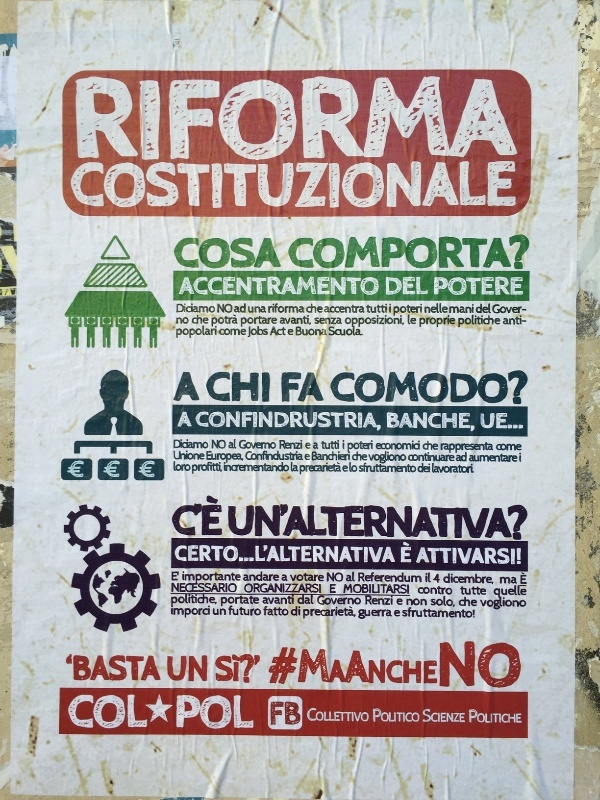text: (81, 74, 96, 163), (97, 74, 112, 163), (113, 74, 128, 163), (129, 74, 144, 163), (145, 74, 160, 163), (161, 74, 176, 163), (177, 74, 192, 163), (193, 74, 208, 163), (209, 74, 224, 163), (225, 74, 240, 163), (241, 74, 256, 163), (257, 74, 272, 163), (273, 74, 288, 163), (289, 74, 304, 163), (305, 74, 320, 163), (321, 74, 336, 163), (337, 74, 352, 163), (353, 74, 368, 163), (369, 74, 384, 163), (385, 74, 400, 163), (401, 74, 416, 163), (417, 74, 432, 163), (433, 74, 448, 163), (449, 74, 464, 163), (465, 74, 480, 163), (481, 74, 496, 163), (497, 74, 512, 163), (81, 160, 96, 211), (97, 160, 112, 211), (113, 160, 128, 211), (129, 160, 144, 211), (145, 160, 160, 211), (161, 160, 176, 211), (177, 160, 192, 211), (193, 160, 208, 211), (209, 160, 224, 211), (225, 160, 240, 211), (241, 160, 256, 211), (257, 160, 272, 211), (273, 160, 288, 211), (289, 160, 304, 211), (305, 160, 320, 211), (321, 160, 336, 211), (337, 160, 352, 211), (353, 160, 368, 211), (369, 160, 384, 211), (385, 160, 400, 211), (401, 160, 416, 211), (417, 160, 432, 211), (433, 160, 448, 211), (449, 160, 464, 211), (465, 160, 480, 211), (481, 160, 496, 211), (497, 160, 512, 211), (305, 639, 320, 689), (321, 639, 336, 689), (337, 639, 352, 689), (353, 639, 368, 689), (369, 639, 384, 689), (385, 639, 400, 689), (401, 639, 416, 689), (417, 639, 432, 689), (433, 639, 448, 689), (449, 639, 464, 689), (465, 639, 480, 689), (481, 639, 496, 689), (497, 639, 512, 689), (513, 74, 521, 163), (497, 500, 513, 541), (73, 74, 80, 163), (177, 500, 192, 541), (193, 500, 208, 541), (209, 500, 224, 541), (225, 500, 240, 541), (241, 500, 256, 541), (257, 500, 272, 541), (273, 500, 288, 541), (289, 500, 304, 541), (305, 500, 320, 541), (321, 500, 336, 541), (337, 500, 352, 541), (353, 500, 368, 541), (369, 500, 384, 541), (385, 500, 400, 541), (401, 500, 416, 541), (417, 500, 432, 541), (433, 500, 448, 541), (449, 500, 464, 541), (465, 500, 480, 541), (481, 500, 496, 541), (273, 646, 288, 687), (81, 694, 96, 731), (97, 694, 112, 731), (113, 694, 128, 731), (129, 694, 144, 731), (177, 238, 192, 274), (193, 238, 208, 274), (209, 238, 224, 274), (225, 238, 240, 274), (241, 238, 256, 274), (257, 238, 272, 274), (289, 235, 304, 271), (305, 235, 320, 271), (321, 235, 336, 271), (337, 235, 352, 271), (353, 235, 368, 271), (369, 235, 384, 271), (385, 235, 400, 271), (401, 235, 416, 271), (417, 235, 432, 271), (433, 235, 448, 271), (449, 235, 464, 271), (465, 235, 480, 271), (481, 235, 496, 271), (497, 235, 512, 271), (193, 372, 208, 408), (209, 372, 224, 408), (225, 372, 240, 408), (241, 372, 256, 408), (257, 372, 272, 408), (273, 372, 288, 408), (289, 372, 304, 408), (305, 372, 320, 408), (321, 372, 336, 408), (337, 372, 352, 408), (353, 372, 368, 408), (369, 372, 384, 408), (385, 372, 400, 408), (401, 372, 416, 408), (417, 372, 432, 408), (433, 372, 448, 408), (449, 372, 464, 408), (465, 372, 480, 408), (481, 372, 496, 408), (65, 654, 80, 689), (81, 654, 96, 689), (97, 654, 112, 689), (113, 654, 128, 689), (129, 654, 144, 689), (145, 654, 160, 689), (161, 654, 176, 689), (177, 654, 192, 689), (193, 654, 208, 689), (209, 654, 224, 689), (225, 654, 240, 689), (241, 654, 256, 689), (177, 697, 192, 731), (193, 697, 208, 731), (209, 697, 224, 731), (225, 697, 240, 731), (241, 697, 256, 731), (71, 160, 80, 211), (513, 639, 522, 689), (273, 238, 285, 274), (289, 703, 305, 729), (289, 646, 299, 687), (69, 694, 80, 731), (497, 372, 508, 408), (273, 703, 288, 729), (385, 275, 400, 299), (401, 275, 416, 299), (145, 694, 154, 731), (193, 276, 208, 298), (209, 276, 224, 298), (225, 276, 240, 298), (241, 276, 256, 298), (257, 276, 272, 298), (273, 276, 288, 298), (289, 276, 304, 298), (305, 276, 320, 298), (321, 276, 336, 298), (337, 276, 352, 298), (353, 276, 368, 298), (177, 542, 192, 564), (193, 542, 208, 564), (209, 542, 224, 564), (225, 542, 240, 564), (241, 542, 256, 564), (257, 542, 272, 564), (273, 542, 288, 564), (289, 542, 304, 564), (305, 542, 320, 564), (321, 542, 336, 564), (337, 542, 352, 564), (353, 542, 368, 564), (369, 542, 384, 564), (183, 372, 192, 408), (449, 276, 464, 297), (465, 276, 480, 297), (481, 276, 496, 297), (497, 276, 512, 297), (401, 545, 416, 565), (433, 546, 448, 566), (449, 546, 464, 566), (465, 546, 480, 566), (481, 546, 496, 566), (497, 546, 512, 566), (434, 276, 448, 297), (417, 275, 429, 299), (209, 410, 224, 429), (225, 410, 240, 429), (241, 410, 256, 429), (257, 410, 272, 429), (273, 410, 288, 429), (289, 410, 304, 429), (305, 410, 320, 429), (321, 410, 336, 429), (337, 410, 352, 429), (353, 410, 368, 429), (401, 411, 416, 430), (417, 411, 432, 430), (433, 411, 448, 430), (449, 411, 464, 430), (481, 411, 496, 430), (385, 542, 397, 564), (513, 160, 518, 211), (433, 708, 448, 725), (449, 708, 464, 725), (195, 410, 208, 429), (387, 411, 400, 430), (321, 707, 336, 723), (337, 707, 352, 723), (353, 707, 368, 723), (385, 708, 400, 724), (401, 708, 416, 724), (513, 276, 524, 297), (497, 411, 509, 430), (481, 710, 496, 725), (497, 710, 512, 725), (67, 461, 80, 478), (369, 276, 379, 298), (401, 303, 416, 317), (497, 585, 512, 599), (177, 594, 192, 608), (193, 594, 208, 608), (481, 597, 496, 611), (497, 597, 512, 611), (305, 606, 320, 620), (321, 606, 336, 620), (337, 606, 352, 620), (177, 606, 192, 620), (193, 606, 208, 620), (307, 707, 320, 723), (433, 303, 449, 316), (273, 605, 289, 618), (422, 546, 432, 566), (513, 585, 527, 599), (177, 326, 192, 339), (193, 326, 208, 339), (353, 314, 368, 327), (369, 314, 384, 327), (385, 314, 400, 327), (433, 316, 448, 329), (465, 315, 480, 328), (481, 315, 496, 328), (369, 451, 384, 464), (385, 451, 400, 464), (193, 462, 208, 475), (305, 462, 320, 475), (321, 462, 336, 475), (449, 573, 464, 586), (465, 573, 480, 586), (353, 584, 368, 597), (369, 584, 384, 597), (385, 584, 400, 597), (241, 605, 256, 618), (182, 411, 192, 430), (369, 410, 379, 429), (209, 462, 223, 475), (513, 597, 526, 611), (513, 546, 522, 566), (193, 314, 208, 326), (241, 315, 256, 327), (257, 315, 272, 327), (497, 303, 512, 315), (353, 440, 368, 452), (225, 461, 240, 473), (241, 461, 256, 473), (257, 461, 272, 473), (273, 461, 288, 473), (145, 460, 155, 478), (305, 572, 320, 584), (369, 573, 384, 585), (385, 573, 400, 585), (401, 573, 416, 585), (321, 595, 336, 607), (337, 595, 352, 607), (369, 595, 384, 607), (417, 608, 432, 620), (433, 608, 448, 620), (449, 608, 464, 620), (369, 608, 384, 620), (373, 708, 384, 724), (257, 654, 262, 689), (419, 316, 432, 329), (481, 573, 494, 586), (291, 605, 304, 618), (289, 439, 303, 451), (513, 303, 527, 315), (450, 303, 464, 315), (177, 461, 191, 473), (290, 572, 304, 584), (402, 608, 416, 620), (469, 710, 480, 725), (337, 326, 352, 337), (305, 326, 320, 337), (289, 315, 304, 326), (177, 304, 192, 315), (193, 304, 208, 315), (177, 439, 192, 450), (193, 439, 208, 450), (321, 439, 336, 450), (385, 440, 400, 451), (401, 440, 416, 451), (449, 442, 464, 453), (465, 442, 480, 453), (481, 452, 496, 463), (497, 452, 512, 463), (353, 451, 368, 462), (321, 451, 336, 462), (257, 450, 272, 461), (273, 450, 288, 461), (289, 450, 304, 461), (177, 451, 192, 462), (433, 463, 448, 474), (449, 463, 464, 474), (193, 572, 208, 583), (209, 572, 224, 583), (225, 572, 240, 583), (257, 572, 272, 583), (465, 586, 480, 597), (433, 586, 448, 597), (257, 583, 272, 594), (273, 583, 288, 594), (289, 583, 304, 594), (305, 583, 320, 594), (225, 596, 240, 607), (241, 596, 256, 607), (433, 597, 448, 608), (172, 500, 176, 541), (289, 304, 305, 314), (401, 463, 417, 473), (225, 315, 238, 327), (211, 439, 224, 451), (465, 597, 478, 609), (228, 605, 240, 618), (185, 276, 192, 298), (513, 315, 527, 326), (337, 451, 351, 462), (418, 586, 432, 597), (423, 708, 432, 725), (103, 461, 112, 478), (241, 440, 256, 450), (257, 440, 272, 450), (369, 304, 384, 314), (337, 304, 352, 314), (273, 304, 288, 314), (417, 453, 432, 463), (433, 453, 448, 463), (209, 451, 224, 461), (225, 451, 240, 461), (369, 463, 384, 473), (385, 463, 400, 473), (177, 583, 192, 593), (193, 583, 208, 593), (209, 583, 224, 593), (273, 595, 288, 605), (257, 326, 269, 338), (212, 315, 224, 327), (273, 326, 286, 337), (229, 438, 240, 451), (481, 442, 494, 453), (291, 462, 304, 473), (306, 304, 320, 314), (418, 463, 432, 473), (257, 697, 261, 731), (513, 710, 522, 725), (225, 328, 240, 337), (321, 317, 336, 326), (481, 302, 492, 314), (193, 451, 205, 462), (244, 572, 256, 583), (225, 583, 238, 593), (209, 594, 218, 608), (389, 303, 400, 314), (469, 452, 480, 463), (245, 583, 256, 594), (353, 304, 365, 314), (305, 442, 320, 450), (497, 444, 512, 452), (358, 573, 368, 585), (436, 574, 448, 584), (500, 576, 512, 586), (465, 608, 475, 620), (358, 608, 368, 620), (113, 461, 120, 478), (209, 326, 218, 339), (401, 584, 410, 597), (305, 594, 314, 607), (263, 605, 272, 618), (465, 411, 471, 430), (353, 326, 363, 337), (325, 304, 336, 314), (246, 450, 256, 461), (465, 463, 475, 474), (182, 572, 192, 583), (279, 439, 288, 451), (465, 303, 474, 315), (423, 439, 432, 451), (305, 453, 320, 460), (344, 314, 352, 327), (520, 573, 528, 586), (344, 584, 352, 597), (302, 639, 304, 689), (326, 573, 336, 583), (406, 598, 416, 608), (417, 598, 427, 608), (503, 315, 512, 326), (519, 452, 528, 463), (408, 315, 416, 327), (353, 595, 361, 607), (385, 595, 393, 607), (425, 303, 432, 316), (343, 440, 352, 450), (359, 463, 368, 473), (139, 460, 144, 478), (263, 595, 272, 605), (328, 326, 336, 337), (296, 326, 304, 337), (280, 315, 288, 326), (376, 440, 384, 451), (312, 451, 320, 462), (213, 608, 224, 616), (249, 326, 256, 338), (177, 318, 189, 325), (394, 303, 400, 317), (417, 303, 423, 317), (385, 608, 392, 620), (456, 452, 464, 462), (408, 453, 416, 463), (342, 465, 352, 473), (449, 316, 455, 329), (458, 315, 464, 328), (298, 594, 304, 607), (305, 315, 312, 326), (217, 303, 224, 314), (225, 303, 232, 314), (441, 442, 448, 453), (449, 597, 456, 608), (257, 306, 266, 314), (513, 444, 522, 452), (62, 654, 64, 689), (337, 573, 344, 583), (171, 606, 176, 620), (81, 461, 85, 478), (321, 326, 327, 337), (234, 303, 240, 314), (209, 304, 215, 315), (273, 572, 279, 583), (426, 573, 432, 584), (481, 586, 487, 597), (330, 584, 336, 595), (401, 451, 406, 464), (337, 462, 342, 475), (257, 605, 262, 618), (248, 306, 256, 314), (281, 574, 288, 583), (433, 439, 438, 451), (449, 453, 455, 463), (346, 572, 352, 582), (417, 573, 422, 585), (459, 597, 464, 609), (394, 609, 400, 619), (313, 442, 320, 450), (172, 594, 176, 608), (241, 303, 246, 314), (513, 452, 518, 463), (241, 328, 247, 337), (314, 317, 320, 326), (337, 317, 343, 326), (401, 314, 405, 327), (497, 315, 501, 328), (300, 462, 304, 475), (444, 573, 448, 586), (289, 328, 294, 338), (513, 576, 518, 586), (289, 595, 294, 605), (417, 708, 420, 724), (273, 315, 277, 327), (476, 302, 480, 314), (348, 440, 352, 452), (369, 440, 373, 452), (172, 571, 176, 583), (321, 572, 325, 584), (449, 586, 453, 597), (493, 585, 496, 599), (353, 606, 356, 620), (271, 646, 272, 687), (273, 440, 277, 450), (268, 304, 272, 314), (172, 583, 176, 593), (175, 238, 176, 274), (513, 235, 514, 271), (220, 328, 224, 337), (493, 303, 496, 315), (365, 595, 368, 607), (337, 439, 340, 450), (417, 440, 420, 451), (461, 586, 464, 597), (221, 596, 224, 607), (241, 451, 244, 461), (353, 572, 356, 582), (209, 606, 211, 620), (271, 703, 272, 729), (174, 461, 176, 473), (177, 571, 179, 583), (318, 595, 320, 607), (397, 598, 400, 606), (175, 542, 176, 564), (174, 439, 176, 450), (174, 451, 176, 462), (257, 596, 259, 607), (366, 304, 368, 314), (385, 304, 387, 314), (321, 304, 323, 314), (465, 452, 467, 462), (206, 451, 208, 461), (193, 411, 194, 430), (465, 708, 466, 725), (369, 707, 370, 723), (401, 598, 403, 606), (303, 606, 304, 620), (225, 439, 226, 451), (289, 461, 290, 473), (241, 572, 242, 583), (321, 583, 322, 594), (431, 597, 432, 608), (239, 440, 240, 450), (225, 608, 226, 616)
